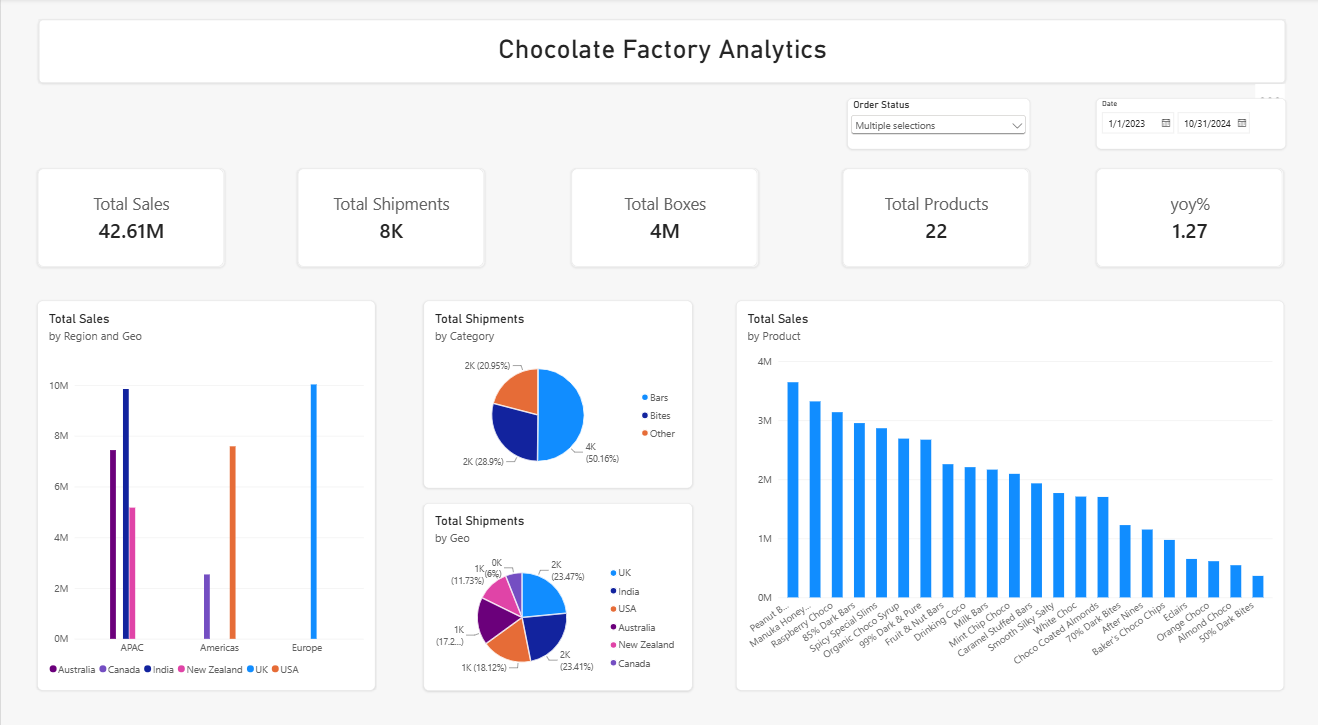

The page's visual inventory and layout, read from the dashboard file:
{"tool":"powerbi","page":{"name":"Overview","canvas":[1920,1080],"ordinal":0},"visuals":[{"type":"cardVisual","fields":{"Data":["FactShipments.Total Sales"]},"box":[53.3,245.3,271.7,144.1],"z":0},{"type":"cardVisual","fields":{"Data":["DimCalendar.Total Shipments"]},"box":[428.8,245.3,271.7,144.1],"z":1000},{"type":"cardVisual","fields":{"Data":["FactShipments.Total Boxes"]},"box":[825.6,245.3,271.7,144.1],"z":2000},{"type":"clusteredColumnChart","fields":{"Category":["DimLocations.Region"],"Series":["DimLocations.Geo"],"Y":["FactShipments.Total Sales"]},"box":[53.3,437.3,489.9,565],"z":3000},{"type":"clusteredColumnChart","fields":{"Category":["DimProducts.Product"],"Y":["FactShipments.Total Sales"]},"box":[1064.5,437.3,793.9,565],"z":4000},{"type":"pieChart","fields":{"Category":["DimProducts.Category"],"Y":["DimCalendar.Total Shipments"]},"box":[612.3,437.3,389.8,271.8],"z":5000},{"type":"cardVisual","fields":{"Data":["DimCalendar.Total Products"]},"box":[1218.1,245.3,271.7,144.1],"z":7000},{"type":"cardVisual","fields":{"Data":["FactShipments.yoy%"]},"box":[1585.1,245.3,271.7,144.1],"z":8000},{"type":"pieChart","fields":{"Category":["DimLocations.Geo"],"Y":["DimCalendar.Total Shipments"]},"box":[612.3,731.7,389.8,271.8],"z":9000},{"type":"textbox","title":"Chocolate Factory Analytics","box":[53.6,30.4,1805.9,93],"z":10000},{"type":"slicer","fields":{"Values":["DimCalendar.cal_date"]},"box":[1585.1,145.1,275.2,74.7],"z":10500},{"type":"slicer","fields":{"Values":["FactShipments.Order_Status"]},"box":[1224.5,145.1,264.5,74.7],"z":11000}]}

Visuals, with their boxes in screenshot pixels (x1, y1, x2, y2), scaled from the page's 1920x1080 canvas onto the 1318x725 screenshot:
cardVisual - FactShipments.Total Sales: (37,165,223,261)
cardVisual - DimCalendar.Total Shipments: (294,165,481,261)
cardVisual - FactShipments.Total Boxes: (567,165,753,261)
clusteredColumnChart - DimLocations.Region x DimLocations.Geo: (37,294,373,673)
clusteredColumnChart - DimProducts.Product x FactShipments.Total Sales: (731,294,1276,673)
pieChart - DimProducts.Category x DimCalendar.Total Shipments: (420,294,688,476)
cardVisual - DimCalendar.Total Products: (836,165,1023,261)
cardVisual - FactShipments.yoy%: (1088,165,1275,261)
pieChart - DimLocations.Geo x DimCalendar.Total Shipments: (420,491,688,674)
"Chocolate Factory Analytics" textbox: (37,20,1276,83)
slicer - DimCalendar.cal_date: (1088,97,1277,148)
slicer - FactShipments.Order_Status: (841,97,1022,148)
